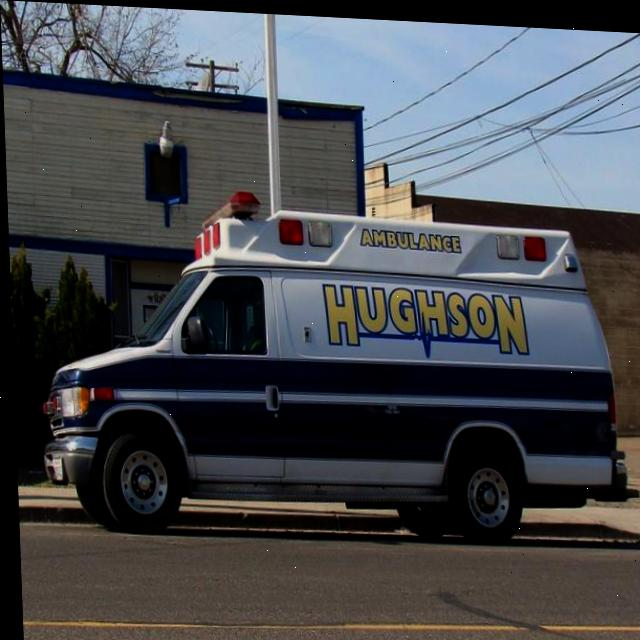emergency: (33, 179, 284, 541)
